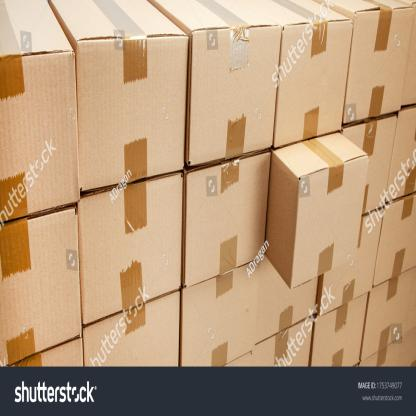box: (77, 35, 188, 196), (76, 170, 184, 326), (186, 22, 285, 167), (0, 48, 80, 222), (0, 205, 81, 366), (185, 152, 271, 289), (289, 154, 368, 286), (274, 19, 353, 147), (83, 288, 179, 387), (182, 256, 264, 364), (342, 5, 414, 127), (309, 290, 370, 374), (373, 192, 416, 287)
